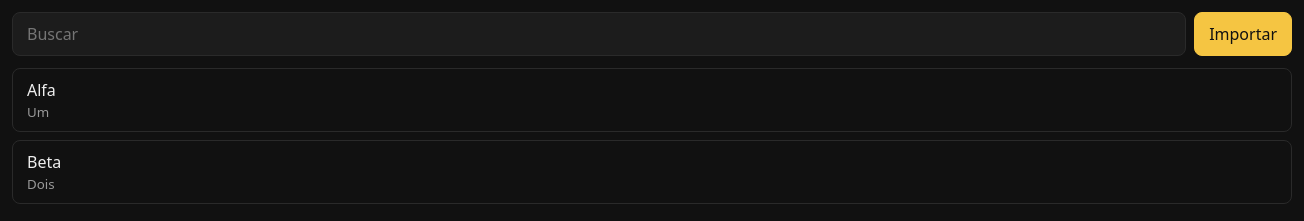
Scenario: Library › a busca filtra por título ou artista
Expected: the text "Alfa" is shown, [27,79,56,101]
Type "dois" into the field with placeholder "Buscar".
click(599, 34); type("dois")  # box [12,12,1186,56]
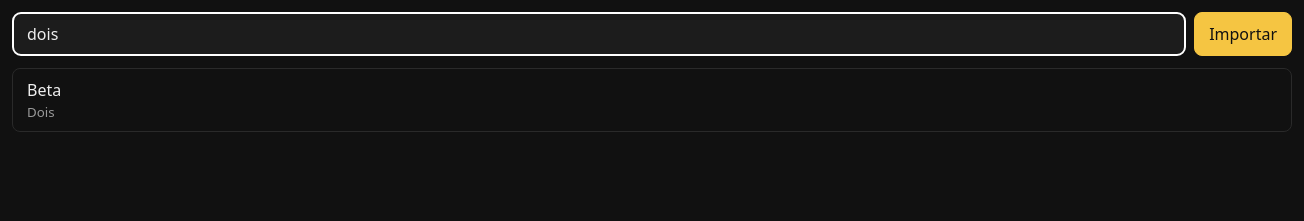
Expected: the text "Beta" is shown, [27,79,61,101]
Expected: the button "Alfa" is gone
